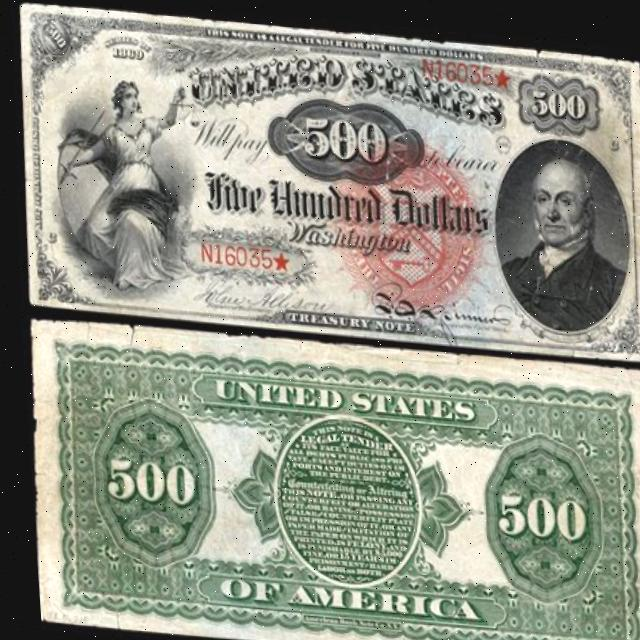banknote: (8, 0, 640, 349), (16, 310, 640, 640), (487, 478, 590, 548), (290, 104, 396, 172), (94, 449, 196, 512), (523, 75, 598, 123)
